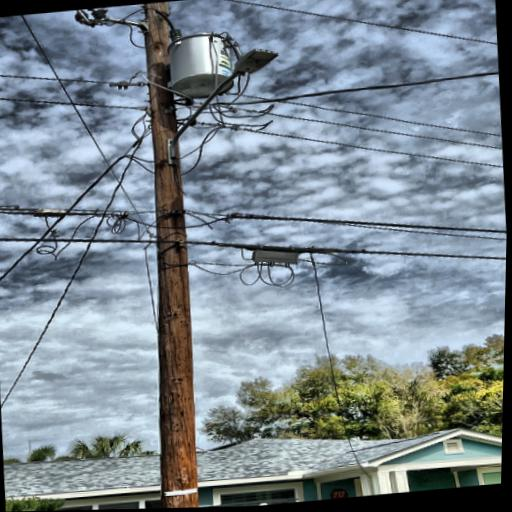pole: (111, 0, 219, 509)
street light: (158, 45, 289, 169)
transformer: (163, 28, 239, 103)
